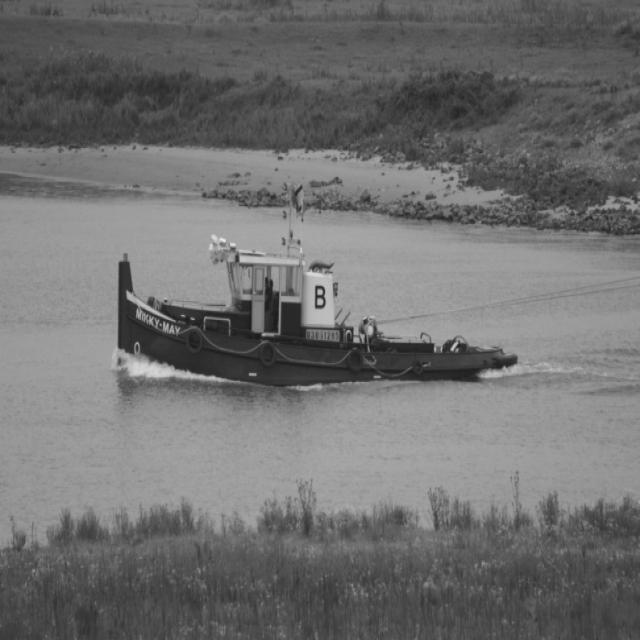tugboat: (116, 233, 522, 401)
